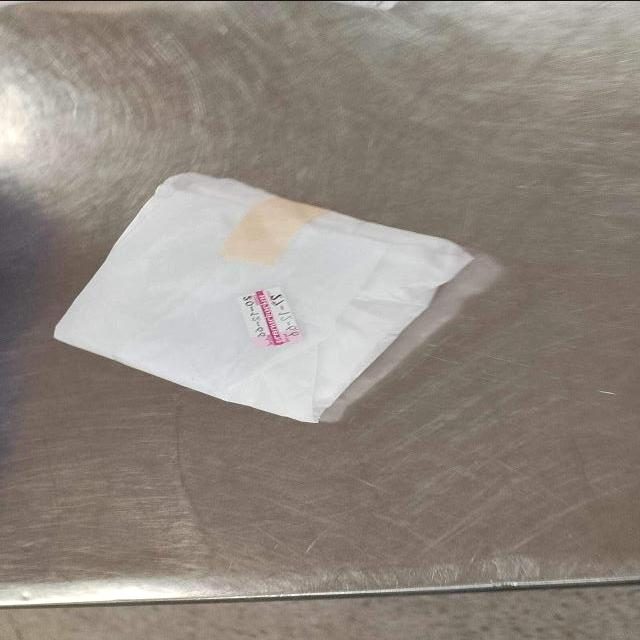General: (238, 282, 305, 348)
Infectious: (51, 169, 475, 423)
Sharps: (594, 385, 618, 397)
